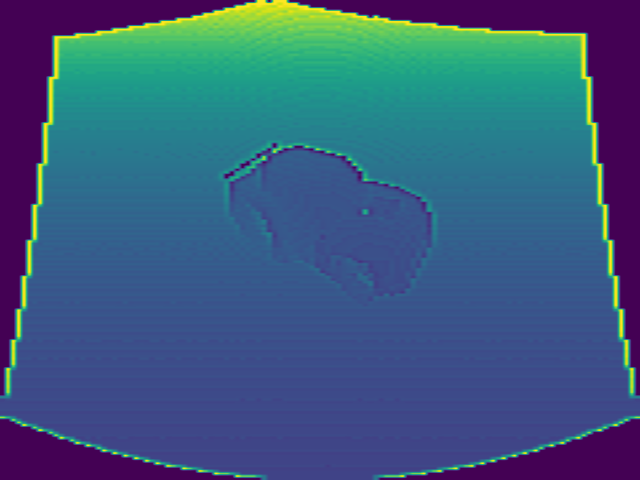car_0027: (225, 141, 433, 300)
